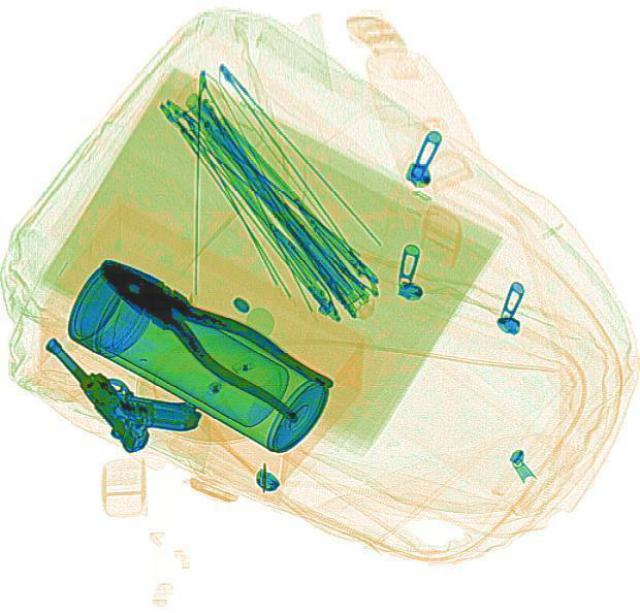Gun: (35, 299, 206, 464)
Pliers: (78, 236, 334, 427)
